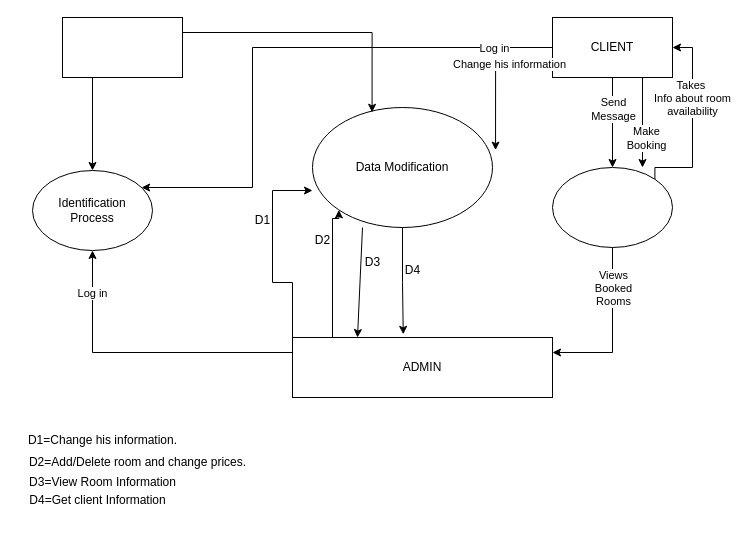
Some shapes in this 748 by 533 pixel diagram are drawn without their labels. Here are the shapes that lost their labels. From the top down, the centre of each, then its label:
point (122, 47): RECEPSIONIST
point (612, 207): Booking Process
